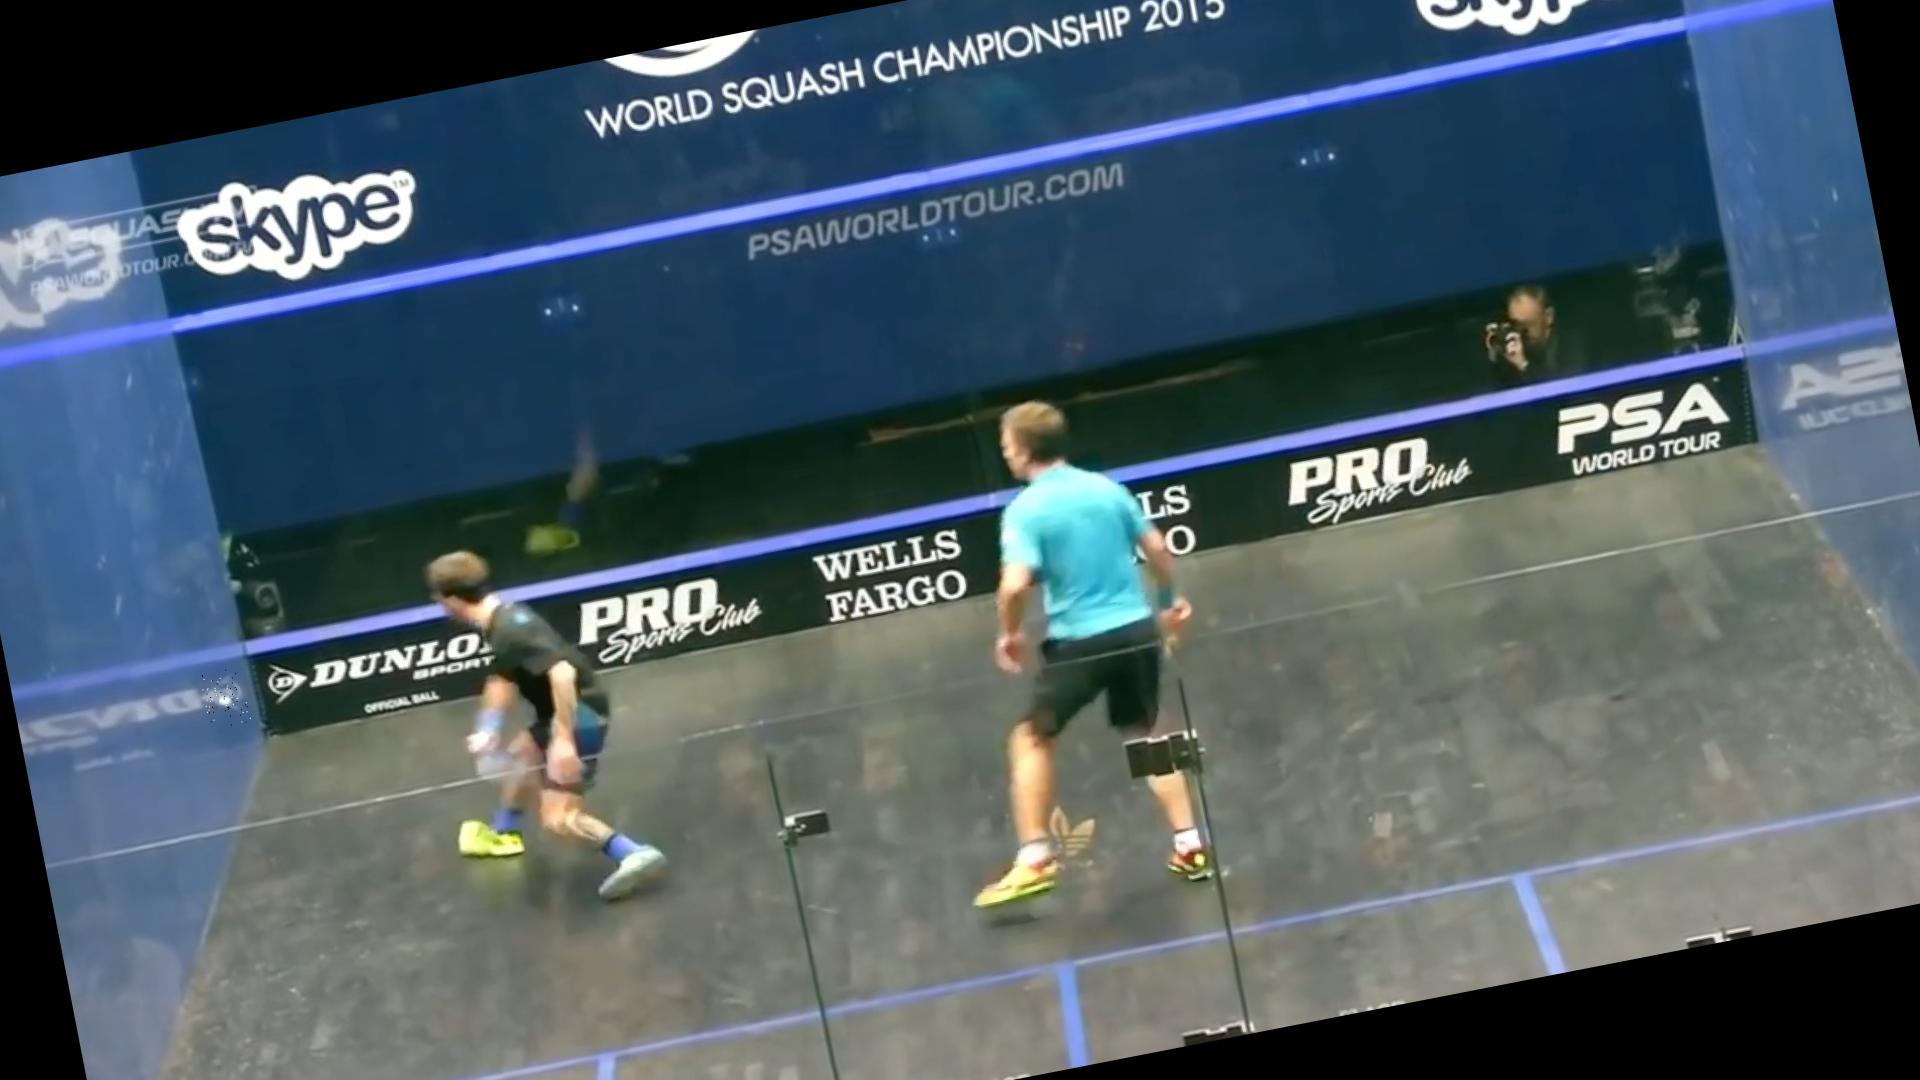Squash-Ball: (198, 666, 252, 730)
